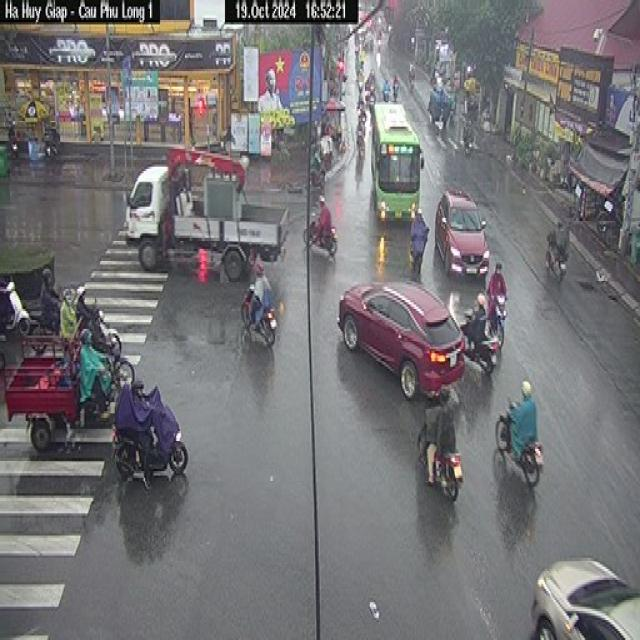bus: (367, 100, 422, 222)
car: (343, 271, 462, 398), (519, 517, 639, 640), (432, 177, 496, 279)
motorcycle: (107, 425, 195, 476), (414, 410, 464, 498), (240, 282, 286, 354), (498, 404, 540, 482), (462, 304, 499, 364), (92, 302, 125, 364), (545, 234, 574, 289), (300, 222, 342, 256), (5, 275, 29, 328), (403, 232, 429, 268), (490, 294, 512, 334)
person: (512, 379, 547, 426), (244, 258, 275, 293), (126, 379, 155, 416), (436, 382, 458, 430), (58, 286, 94, 315), (304, 192, 336, 220), (34, 271, 60, 304), (80, 334, 102, 372), (490, 256, 510, 294), (471, 290, 492, 320), (555, 217, 569, 250), (412, 209, 427, 239)
truck: (124, 142, 284, 270)
